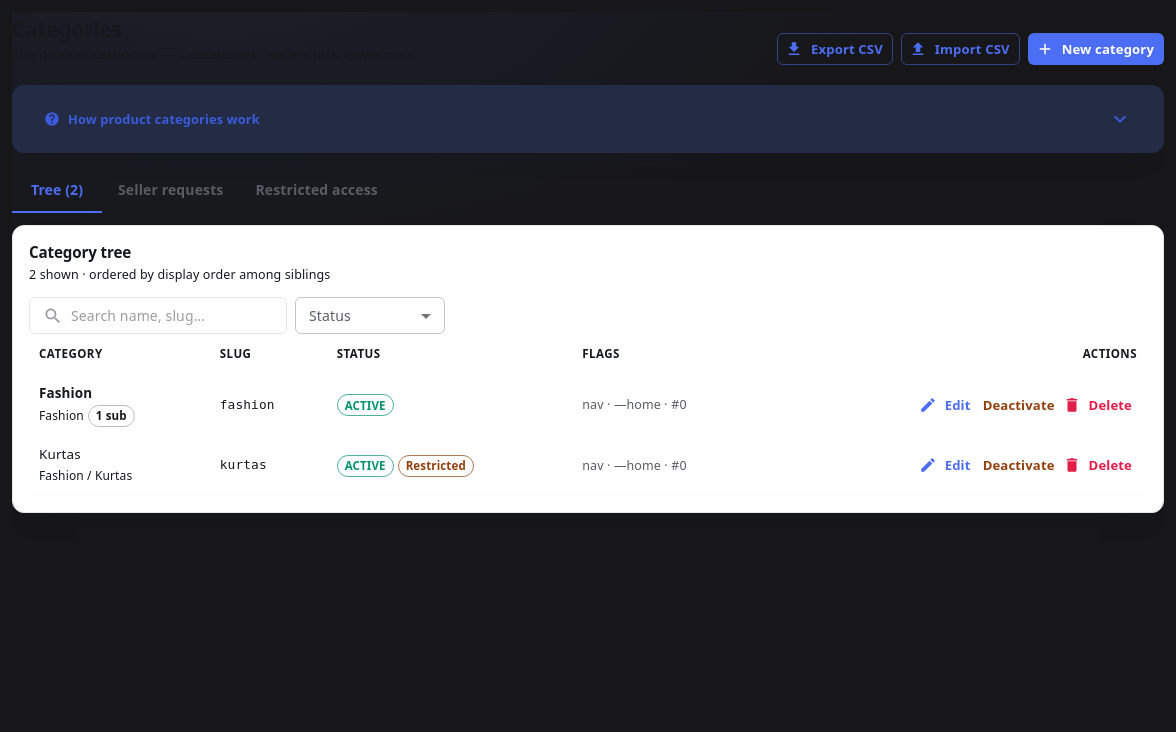
Test case: CategoriesView (admin) › switches to the requests queue tab
Click the tab "Seller requests" at (171, 190), box top-left (102, 166), bottom-right (240, 214)
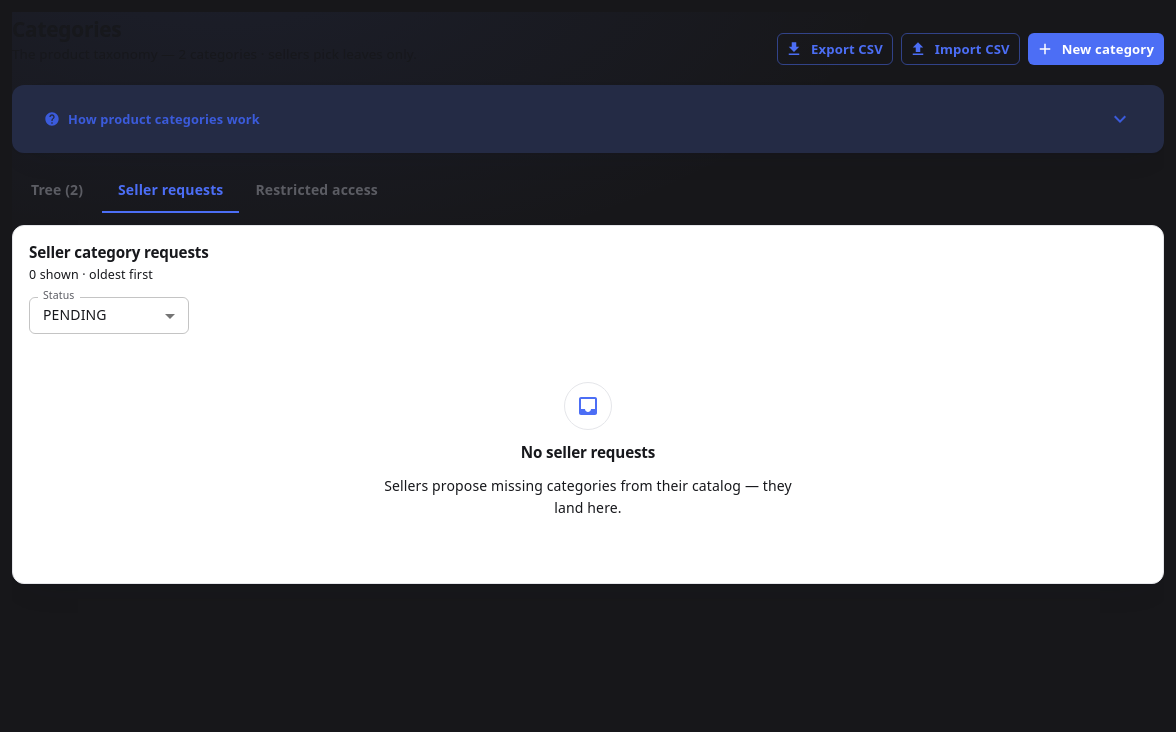
Expected: the heading "Seller category requests" is shown, top-left (29, 242), bottom-right (209, 263)
